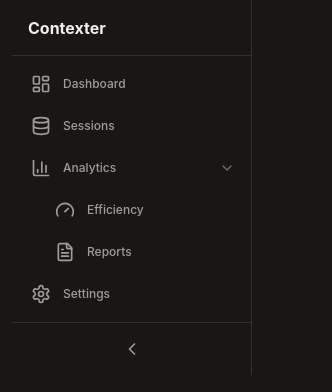
SidebarNav › hides labels in collapsed state
Click the button named "Collapse sidebar": (132, 349) x1=20 y1=331 x2=243 y2=367
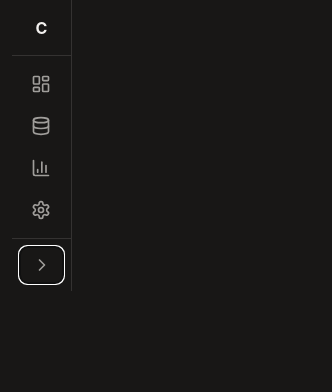
Expected: the text "Dashboard" is gone
Expected: the text "Sessions" is gone
Expected: the text "Settings" is gone
